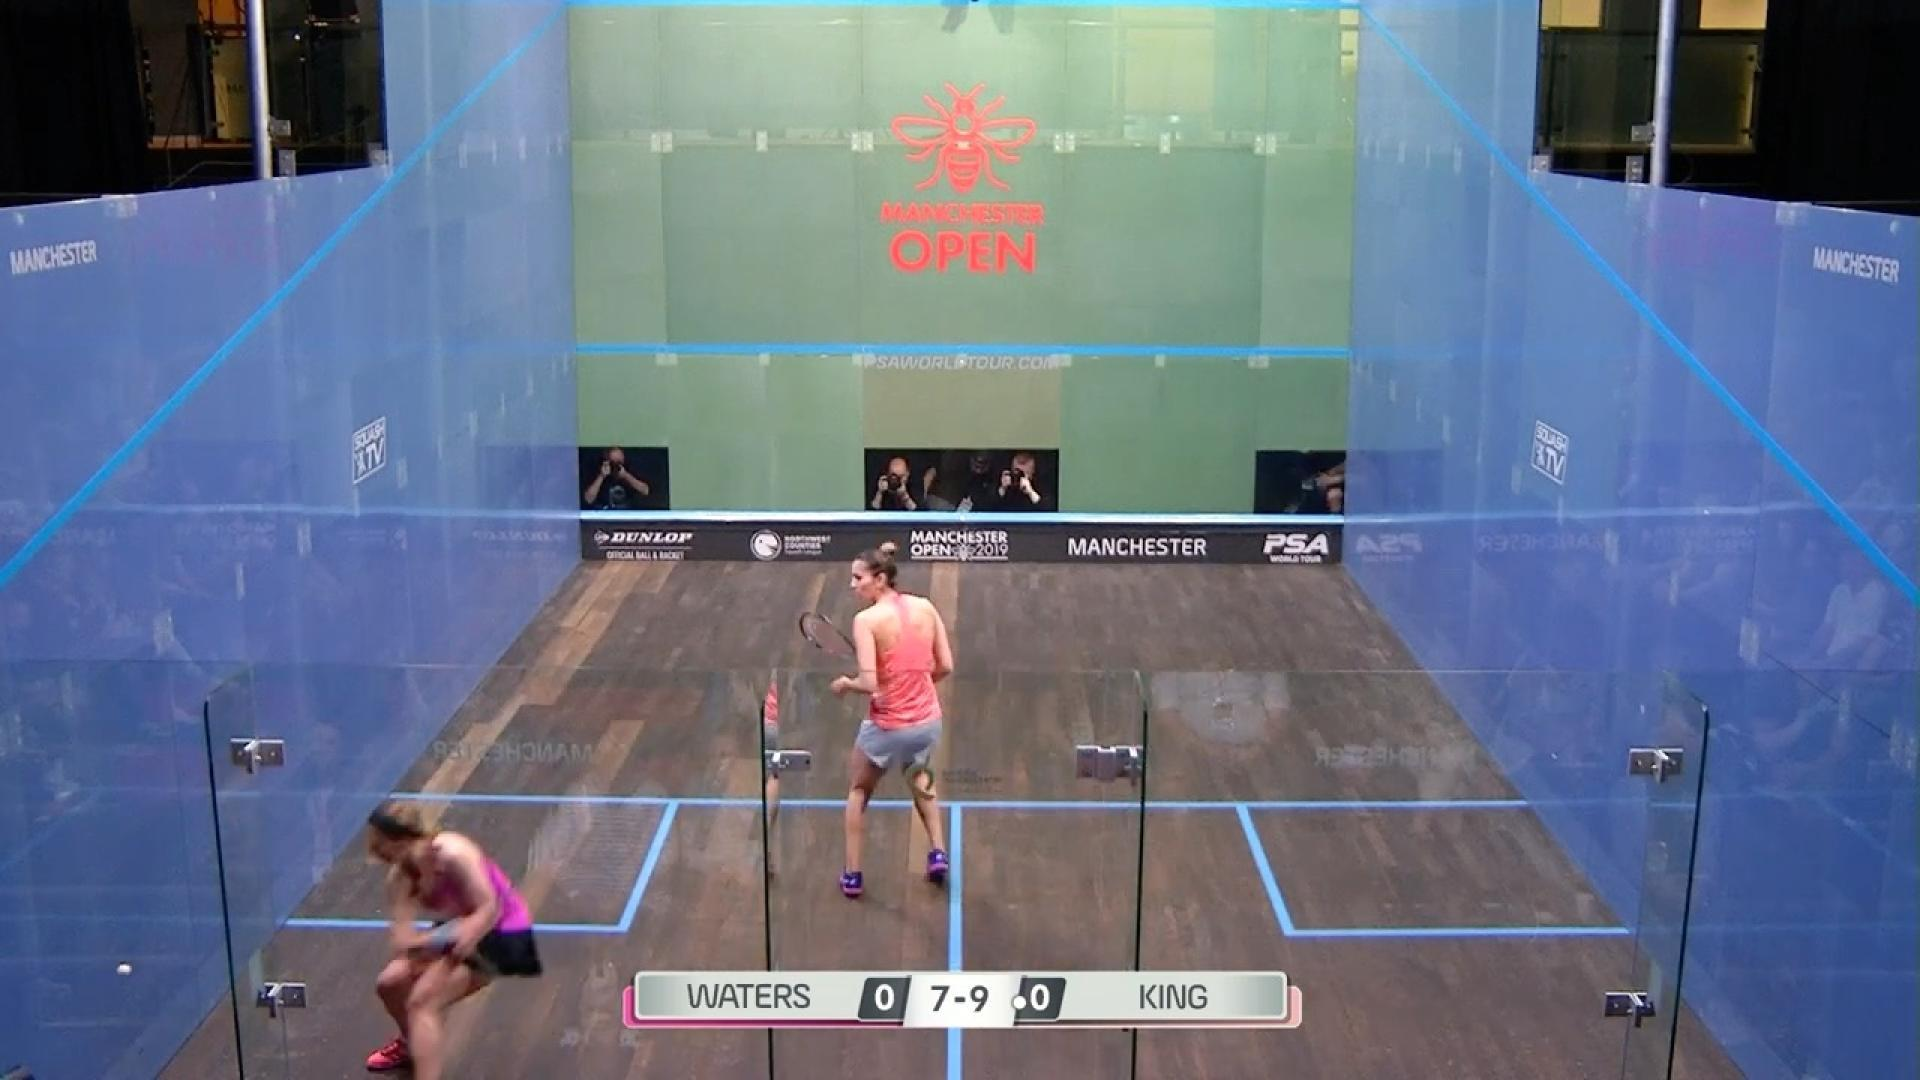Squash-Ball: (92, 939, 162, 997)
